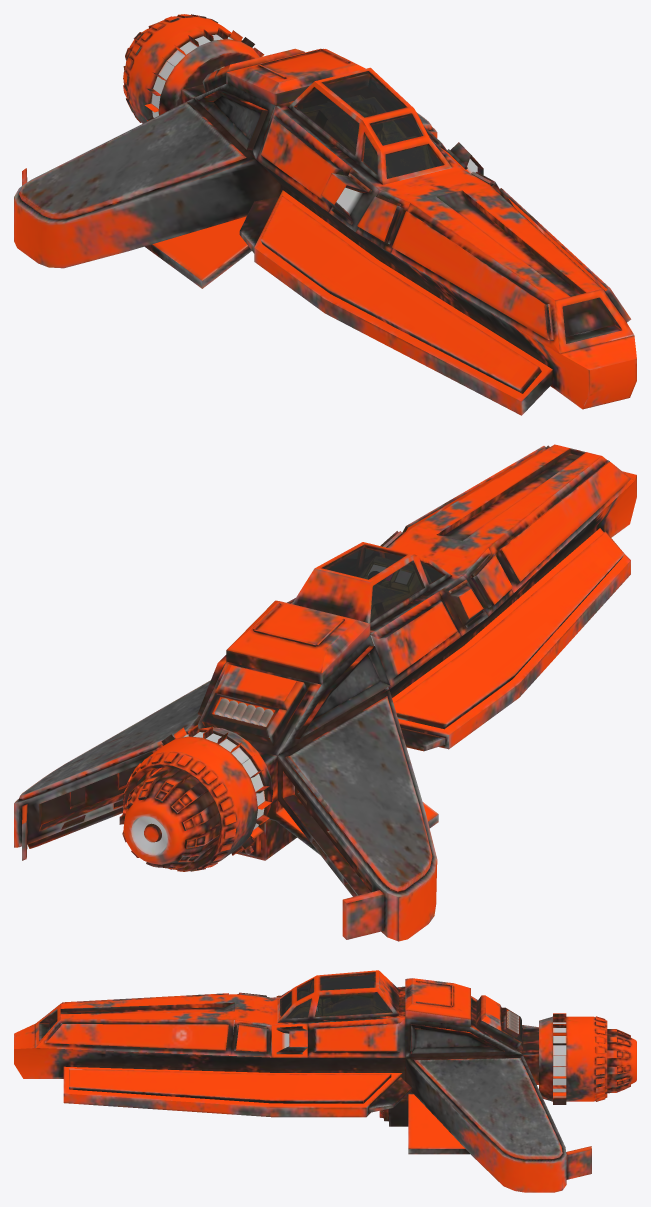
Rendered from spaceship-optimized.glb.
The picture shows the model from 3 angles, top to bottom: view 1: azimuth 30°, elevation 25°; view 2: azimuth 150°, elevation 25°; view 3: azimuth 270°, elevation 25°; orthographic projection. The views are drawn at different scales.
Parts seen in each view (by area): view 1: Cube.001_spaceship racer_0, Cube.005_cockpit_0; view 2: Cube.001_spaceship racer_0, Cube.005_cockpit_0; view 3: Cube.001_spaceship racer_0, Cube.005_cockpit_0.
Boxes of the visible parts, left/top/right/bottom form: Cube.001_spaceship racer_0: left=14, top=14, right=636, bottom=415; Cube.005_cockpit_0: left=302, top=95, right=433, bottom=178; Cube.001_spaceship racer_0: left=14, top=444, right=636, bottom=941; Cube.005_cockpit_0: left=360, top=556, right=430, bottom=618; Cube.001_spaceship racer_0: left=14, top=970, right=636, bottom=1192; Cube.005_cockpit_0: left=286, top=991, right=391, bottom=1017.
Size of the model in its own units: 9.24 by 5.01 by 18.93.
Materials: 2 (2 with a texture image).
